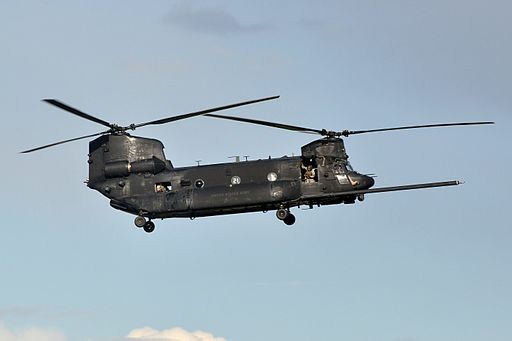chinook: (41, 100, 473, 232)
